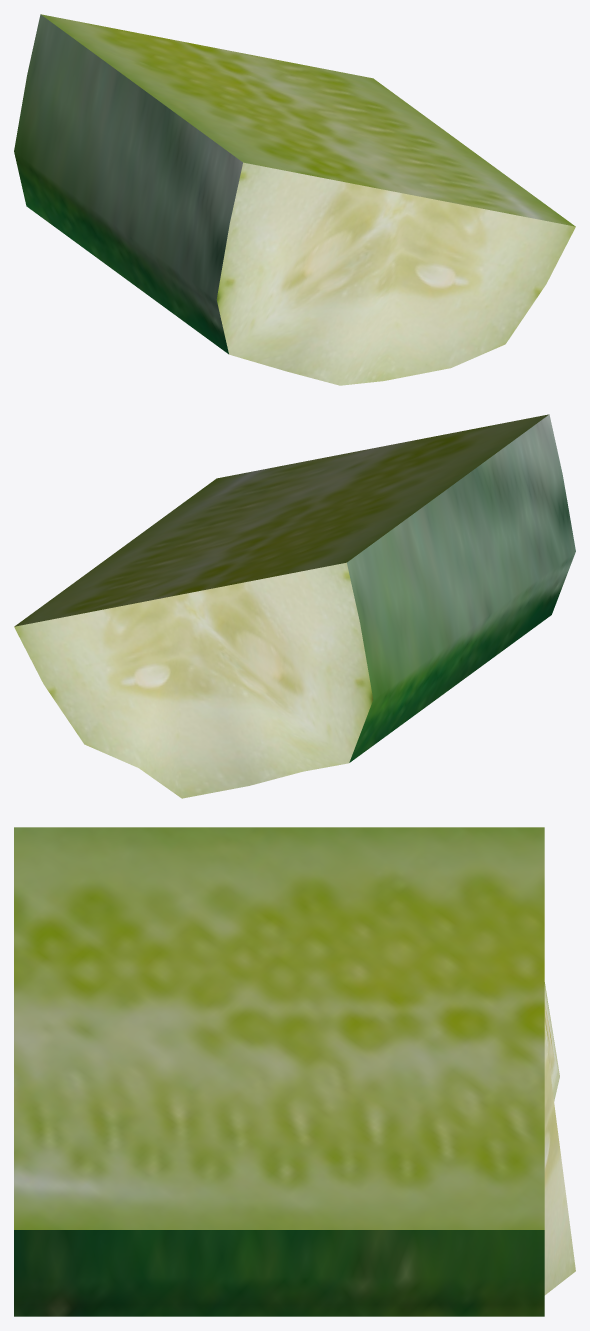
Rendered from zuchini.obj.
3 views of the same model, one above another, from view 1: azimuth 30°, elevation 25°; view 2: azimuth 150°, elevation 25°; view 3: azimuth 270°, elevation 25° (orthographic). The views are drawn at different scales.
Visible parts, largest first — view 1: salad_plate_for_restaurent_ar:Mesh polySurface54, polySurface51 salad_plate_for_restaurent_ar:Mesh, salad_plate_for_restaurent_ar:Mesh polySurface52; view 2: salad_plate_for_restaurent_ar:Mesh polySurface53, polySurface51 salad_plate_for_restaurent_ar:Mesh, salad_plate_for_restaurent_ar:Mesh polySurface52; view 3: salad_plate_for_restaurent_ar:Mesh polySurface52, polySurface51 salad_plate_for_restaurent_ar:Mesh, salad_plate_for_restaurent_ar:Mesh polySurface53.
Boxes of the visible parts, <box> form: salad_plate_for_restaurent_ar:Mesh polySurface54: <box>216,162,575,385</box>; polySurface51 salad_plate_for_restaurent_ar:Mesh: <box>14,14,242,354</box>; salad_plate_for_restaurent_ar:Mesh polySurface52: <box>41,14,575,226</box>; salad_plate_for_restaurent_ar:Mesh polySurface53: <box>14,562,373,798</box>; polySurface51 salad_plate_for_restaurent_ar:Mesh: <box>347,414,575,762</box>; salad_plate_for_restaurent_ar:Mesh polySurface52: <box>14,414,548,626</box>; salad_plate_for_restaurent_ar:Mesh polySurface52: <box>14,827,544,1229</box>; polySurface51 salad_plate_for_restaurent_ar:Mesh: <box>14,1230,544,1316</box>; salad_plate_for_restaurent_ar:Mesh polySurface53: <box>544,982,575,1295</box>.
Size of the model in its own units: 0.8669 by 0.6099 by 0.8969.
2 materials, 2 textured.
